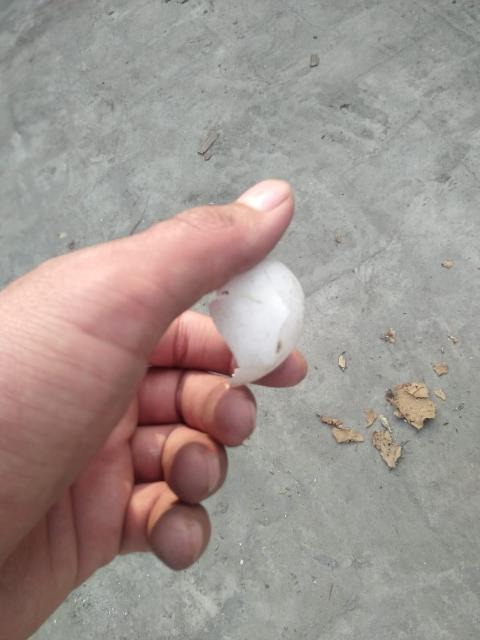Roto: (206, 256, 306, 388)
